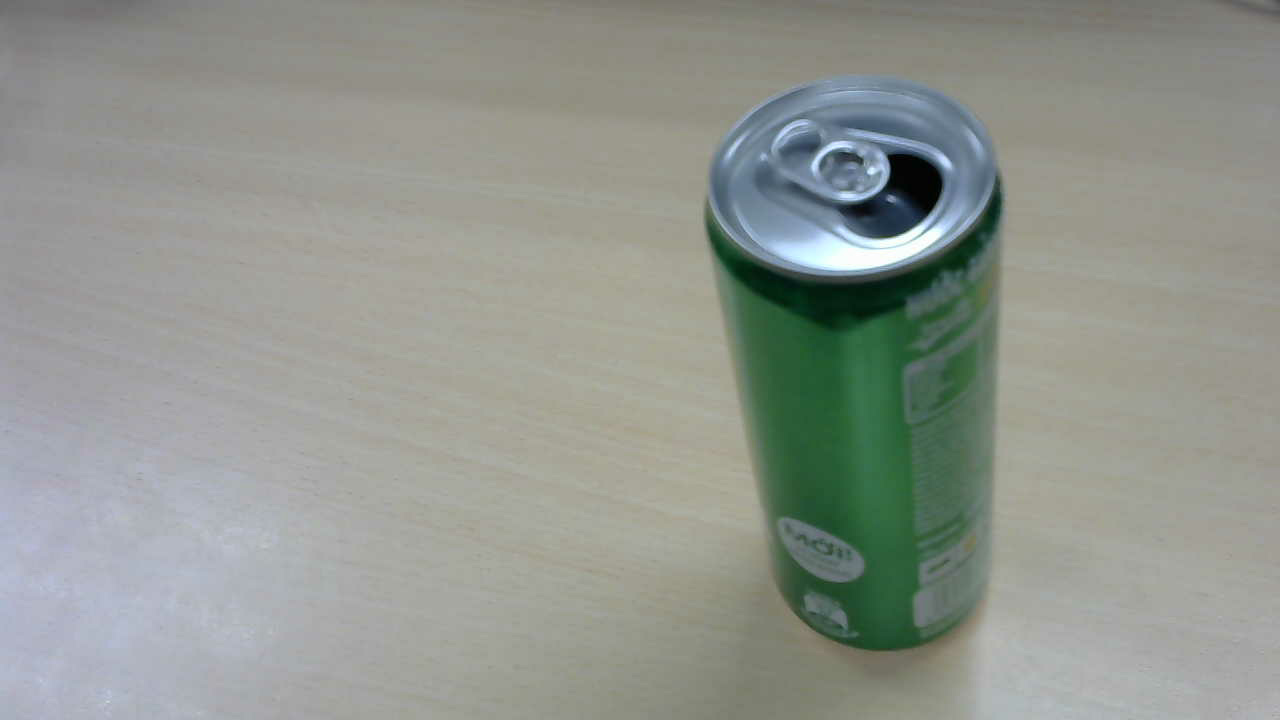Sprite: (711, 81, 1008, 664)
